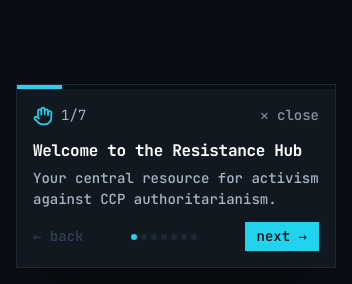
Test: QuickStartGuide › advances to next step
Click the button "next →".
click(282, 236)  # box [245, 222, 319, 251]
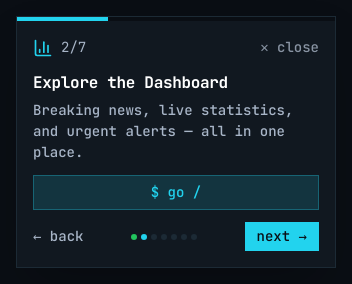
Check: the heading "Explore the Dashboard" is shown, box [33, 72, 228, 93]
Check: the text "2/7" is shown, box [61, 37, 86, 58]
